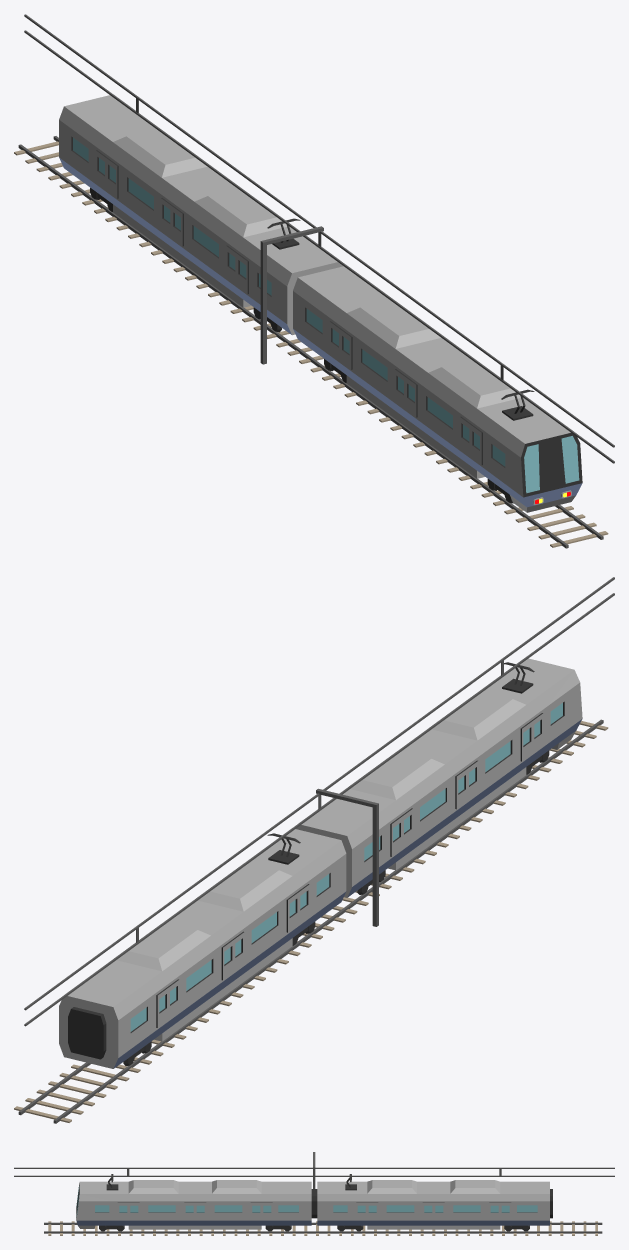
File: train.glb
3 views of the same model, one above another, from view 1: azimuth 30°, elevation 25°; view 2: azimuth 150°, elevation 25°; view 3: azimuth 270°, elevation 25° (orthographic). The views are drawn at different scales.
Parts seen in each view (by area): view 1: Coach1, Cable; view 2: Coach1, Cable; view 3: Coach1, Cable.
Part boxes in pixels (bbox=[...]): Coach1: bbox=[59, 95, 582, 512]; Cable: bbox=[14, 14, 614, 548]; Coach1: bbox=[59, 658, 582, 1068]; Cable: bbox=[14, 577, 614, 1123]; Coach1: bbox=[76, 1174, 552, 1231]; Cable: bbox=[14, 1152, 614, 1235].
Bounding box in the file's own units: 9 × 11.86 × 103.
